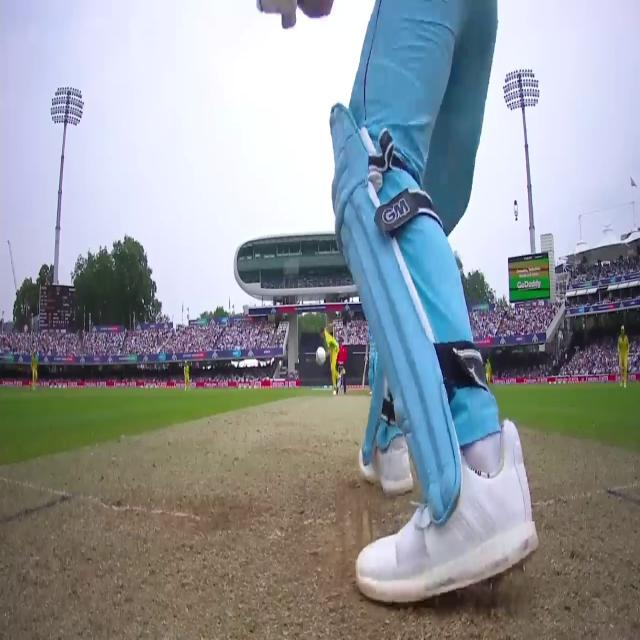ball: (316, 342, 328, 369)
